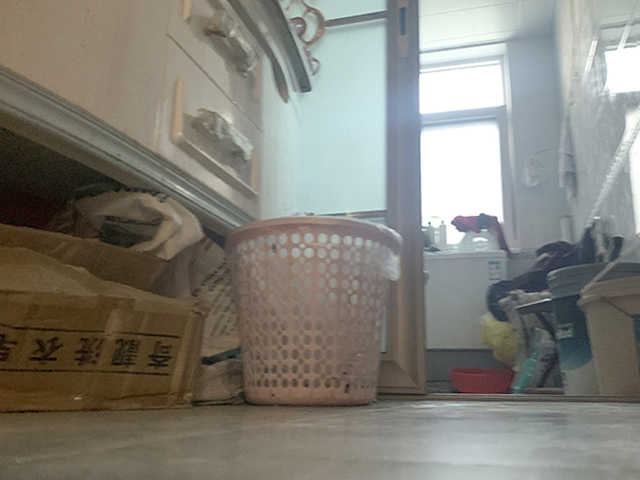trashcan: (224, 213, 403, 407)
